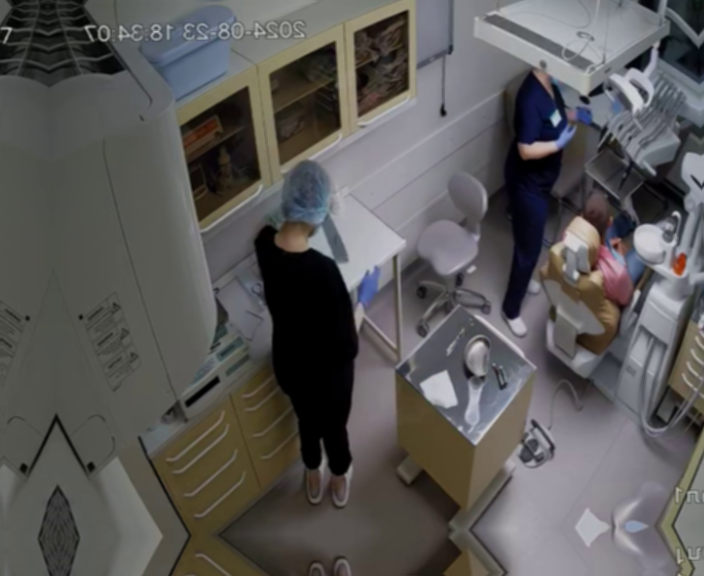Patient: (531, 186, 685, 379)
